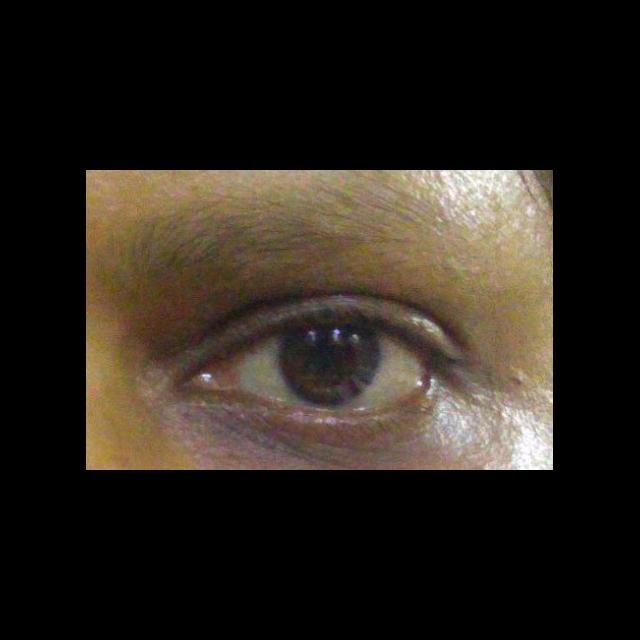eye: (231, 325, 428, 410)
iris: (277, 328, 381, 408)
